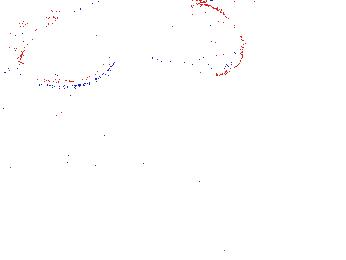moon jellyfish: (18, 2, 121, 90), (162, 4, 244, 77), (125, 4, 220, 63)
